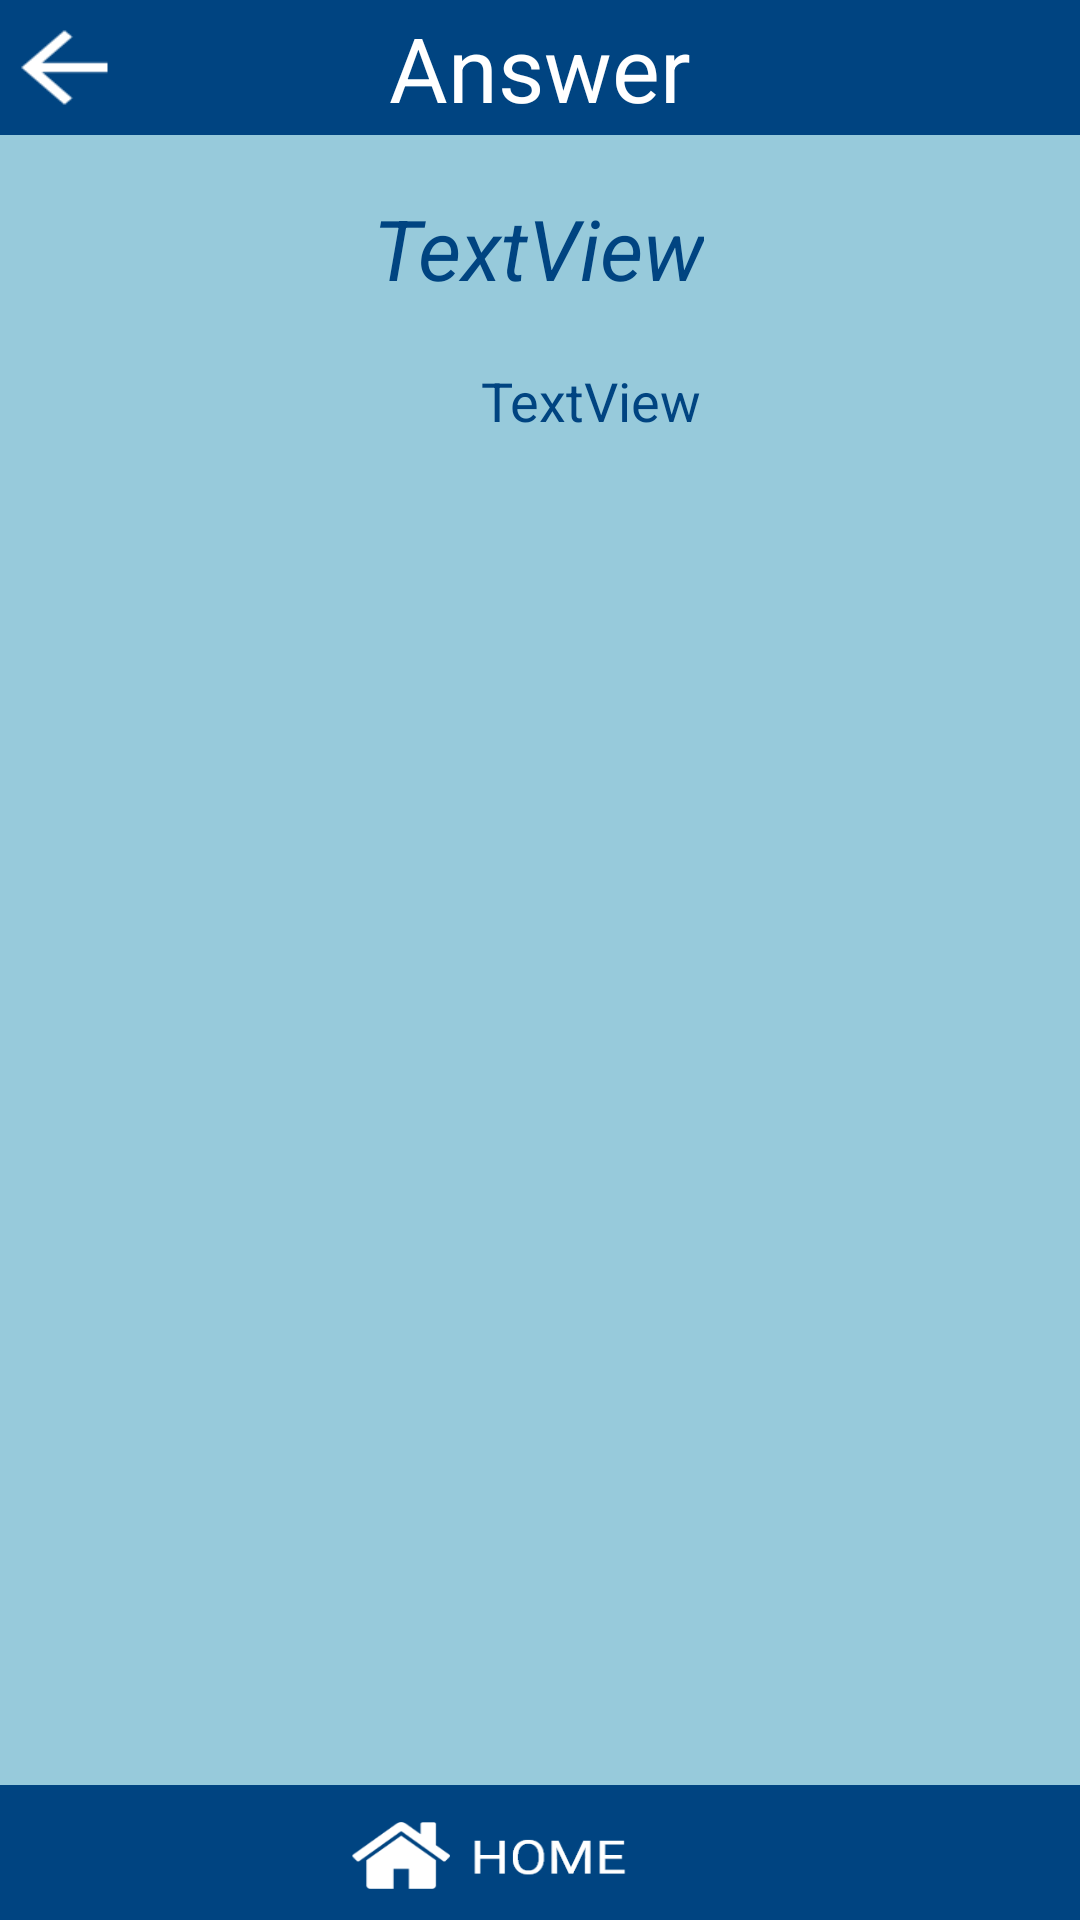

Where to tap for icons on this 1080 × 1920 app screen, as (x=x, y=y):
back: (x=64, y=67)
